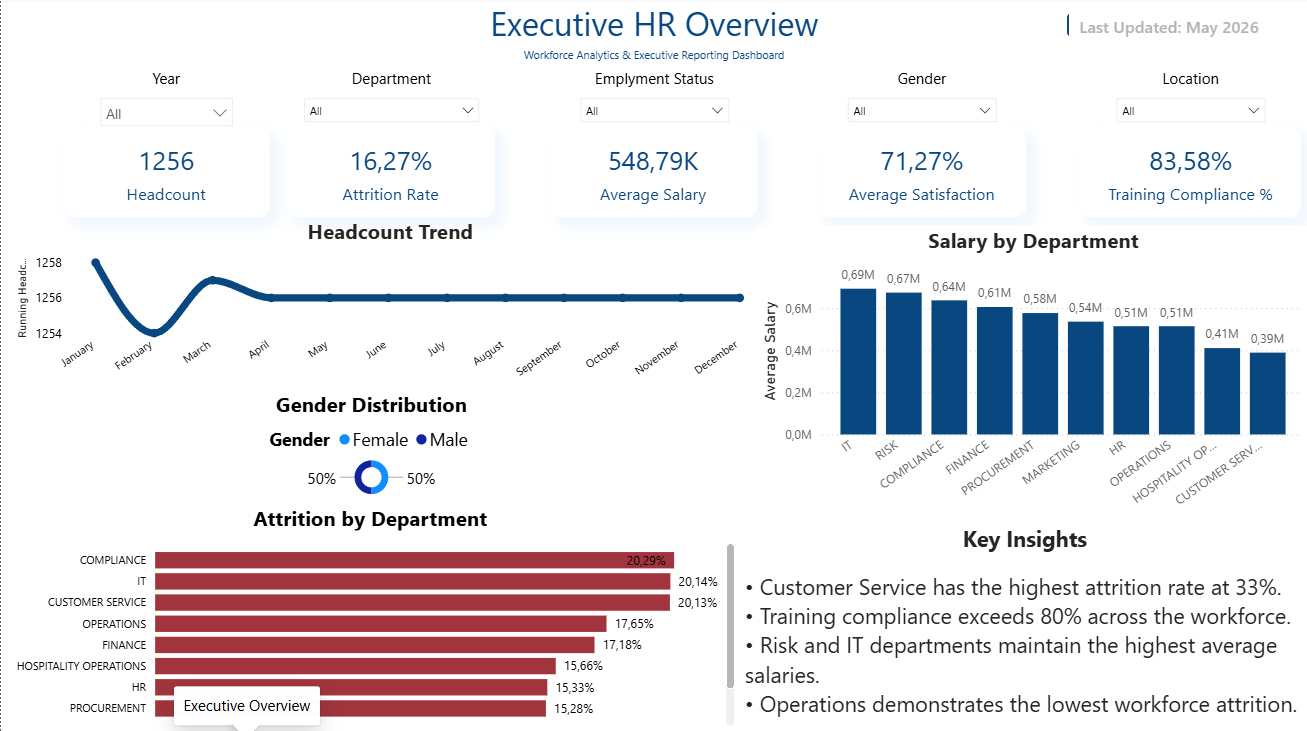

Layout of this report page (visuals, bound fields, positions):
{"tool":"powerbi","page":{"name":"Executive Overview","canvas":[1280,720],"ordinal":0},"visuals":[{"type":"card","fields":{"Values":["Measures (2).Attrition Rate"]},"box":[280,128.4,203,88],"z":0},{"type":"card","fields":{"Values":["Measures (2).Headcount"]},"box":[61.1,128.4,201.8,88],"z":1000},{"type":"card","fields":{"Values":["Measures (2).Average Salary"]},"box":[536.8,128.4,203,88],"z":2000},{"type":"card","fields":{"Values":["Measures (2).Average Satisfaction"]},"box":[799.7,128.4,203,88],"z":3000},{"type":"barChart","title":"Attrition by Department","fields":{"Category":["Dim_Department.Department"],"Y":["Measures (2).Attrition Rate"]},"box":[0,496.5,722.7,222.6],"z":4000},{"type":"lineChart","title":"Headcount Trend","fields":{"Y":["Measures (2).Running Headcount"],"Category":["Dim_Date.Year_Month.Variation.Date Hierarchy.Month"]},"box":[11,216.4,739.8,168.8],"z":5000},{"type":"textbox","box":[337.5,0,602.9,69.7],"z":6000},{"type":"donutChart","title":"Gender Distribution","fields":{"Category":["Employee_Data.Gender"],"Y":["Measures (2).Headcount"]},"box":[1.2,385.2,722.7,111.3],"z":7000},{"type":"slicer","title":"Year","fields":{"Values":["Dim_Date.Year_Month.Variation.Date Hierarchy.Year"]},"box":[86.8,69.7,149.7,59.4],"z":8000,"group":"g1"},{"type":"card","fields":{"Values":["Measures (2).Training Compliance %"]},"box":[1056.5,128.4,215.2,88],"z":8000},{"type":"slicer","title":"Department","fields":{"Values":["Dim_Department.Department"]},"box":[286,69.7,191.7,59.4],"z":9000,"group":"g1"},{"type":"columnChart","title":"Salary by Department","fields":{"Category":["Dim_Department.Department"],"Y":["Measures (2).Average Salary"]},"box":[739.8,225,540.5,286.1],"z":9000},{"type":"group","id":"g1","title":"Group 1","box":[86.8,69.7,1160.5,58.7],"z":10000},{"type":"slicer","title":"Emplyment Status","fields":{"Values":["Employee_Data.Employment_Status"]},"box":[556.8,69.7,165.8,59.4],"z":10000,"group":"g1"},{"type":"textbox","box":[722.7,511.1,557.6,209.1],"z":11000},{"type":"cardVisual","fields":{"Data":["Measures (2).Last Refreshed"]},"box":[1026,0,254.3,57.5],"z":12000},{"type":"slicer","title":"Gender","fields":{"Values":["Employee_Data.Gender"]},"box":[817.8,69.7,165.8,59.4],"z":13000,"group":"g1"},{"type":"slicer","title":"Location","fields":{"Values":["Employee_Data.Location"]},"box":[1081.3,69.7,165.8,59.4],"z":14000,"group":"g1"}]}

Visuals, with their boxes in screenshot pixels (x1, y1, x2, y2), scaled from the page's 1280x720 canvas onto the 1307x731 screenshot:
card - Measures (2).Attrition Rate: {"x1": 286, "y1": 130, "x2": 493, "y2": 220}
card - Measures (2).Headcount: {"x1": 62, "y1": 130, "x2": 268, "y2": 220}
card - Measures (2).Average Salary: {"x1": 548, "y1": 130, "x2": 755, "y2": 220}
card - Measures (2).Average Satisfaction: {"x1": 817, "y1": 130, "x2": 1024, "y2": 220}
"Attrition by Department" barChart: {"x1": 0, "y1": 504, "x2": 738, "y2": 730}
"Headcount Trend" lineChart: {"x1": 11, "y1": 220, "x2": 767, "y2": 391}
textbox: {"x1": 345, "y1": 0, "x2": 960, "y2": 71}
"Gender Distribution" donutChart: {"x1": 1, "y1": 391, "x2": 739, "y2": 504}
"Year" slicer: {"x1": 89, "y1": 71, "x2": 241, "y2": 131}
card - Measures (2).Training Compliance %: {"x1": 1079, "y1": 130, "x2": 1299, "y2": 220}
"Department" slicer: {"x1": 292, "y1": 71, "x2": 488, "y2": 131}
"Salary by Department" columnChart: {"x1": 755, "y1": 228, "x2": 1306, "y2": 519}
"Group 1" group: {"x1": 89, "y1": 71, "x2": 1274, "y2": 130}
"Emplyment Status" slicer: {"x1": 569, "y1": 71, "x2": 738, "y2": 131}
textbox: {"x1": 738, "y1": 519, "x2": 1306, "y2": 730}
cardVisual - Measures (2).Last Refreshed: {"x1": 1048, "y1": 0, "x2": 1306, "y2": 58}
"Gender" slicer: {"x1": 835, "y1": 71, "x2": 1004, "y2": 131}
"Location" slicer: {"x1": 1104, "y1": 71, "x2": 1273, "y2": 131}
